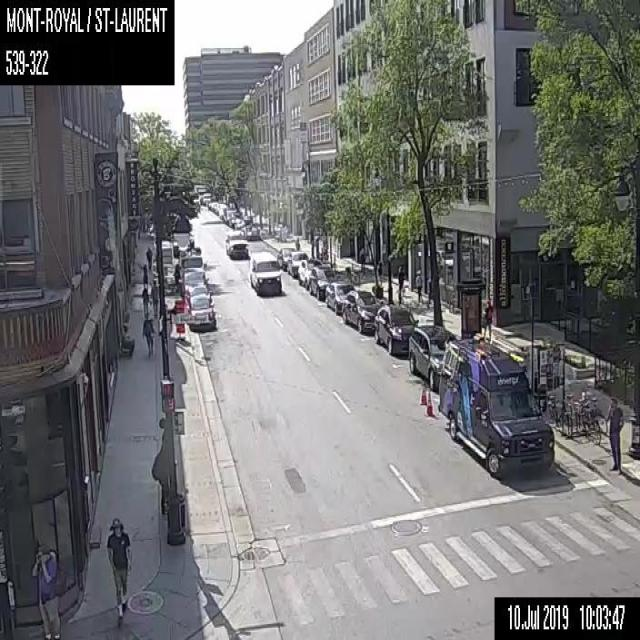construction: (173, 298, 185, 340), (425, 392, 433, 416), (419, 378, 426, 405)
pedestrian: (105, 514, 133, 626), (32, 542, 60, 638), (605, 396, 623, 475), (140, 310, 157, 356), (482, 296, 493, 339), (139, 282, 150, 315), (150, 280, 160, 316), (414, 268, 422, 304), (140, 261, 150, 289), (144, 243, 153, 268), (396, 265, 402, 299), (294, 237, 299, 251)
vehicle: (438, 341, 556, 478), (406, 321, 451, 381), (374, 302, 416, 356), (340, 287, 378, 335), (247, 249, 283, 297), (326, 280, 354, 316), (309, 265, 337, 300), (188, 292, 215, 328), (224, 229, 251, 262), (178, 241, 205, 272), (298, 258, 318, 284), (180, 268, 206, 287), (288, 251, 306, 276), (243, 222, 260, 240), (277, 245, 289, 269)
